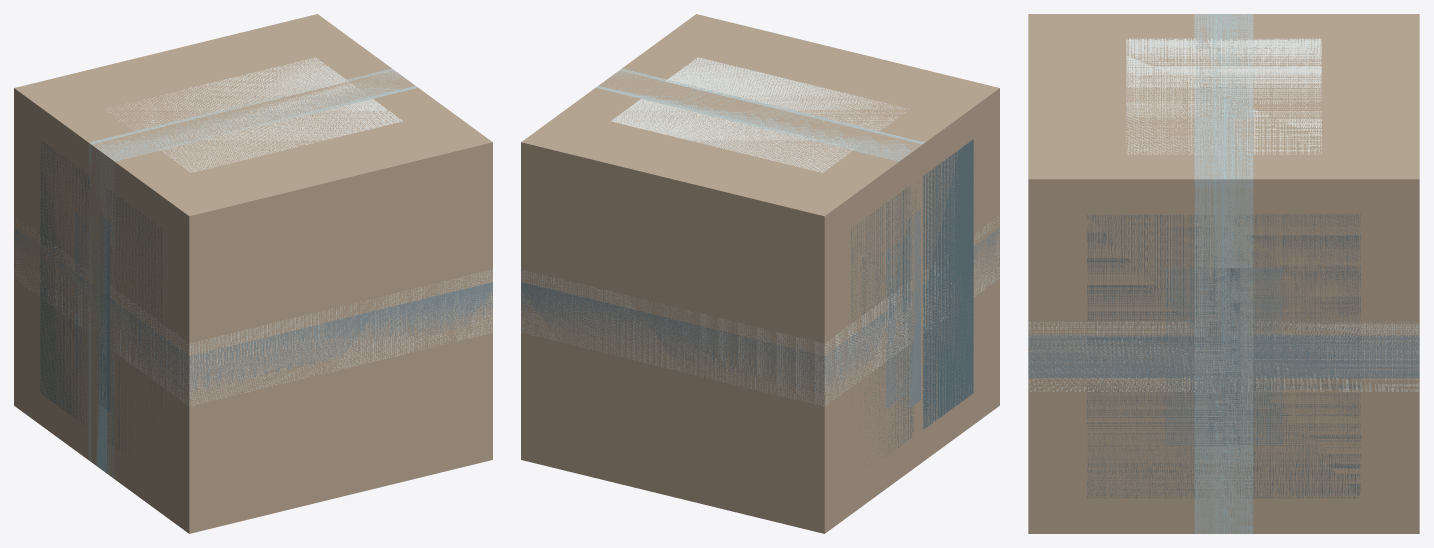
The model's file is world-kit.glb.
3 views of the same model, side by side, from view 1: azimuth 30°, elevation 25°; view 2: azimuth 150°, elevation 25°; view 3: azimuth 270°, elevation 25° (orthographic). The views are drawn at different scales.
Parts seen in each view (by area): view 1: crate, cabinet, roof, bed, generator, wall, door, platform, fence, barricade, window; view 2: crate, generator, cabinet, bed, roof, door, wall, platform, barricade, fence; view 3: crate, generator, wall, cabinet, roof, barricade, door, bed, window, fence, sign, shelf.
Boxes of the visible parts, bbox=[...] form: crate: bbox=[14, 14, 492, 533]; cabinet: bbox=[106, 57, 402, 172]; roof: bbox=[14, 228, 492, 392]; bed: bbox=[14, 220, 492, 406]; generator: bbox=[40, 139, 162, 470]; wall: bbox=[88, 68, 417, 478]; door: bbox=[91, 70, 415, 465]; platform: bbox=[14, 223, 492, 398]; fence: bbox=[93, 215, 110, 412]; barricade: bbox=[75, 212, 91, 377]; window: bbox=[96, 98, 307, 473]; crate: bbox=[521, 14, 999, 533]; generator: bbox=[851, 139, 973, 465]; cabinet: bbox=[611, 57, 909, 172]; bed: bbox=[521, 217, 999, 406]; roof: bbox=[521, 229, 999, 393]; door: bbox=[598, 71, 922, 470]; wall: bbox=[596, 68, 924, 161]; platform: bbox=[521, 223, 999, 398]; barricade: bbox=[886, 226, 923, 408]; fence: bbox=[904, 209, 920, 409]; crate: bbox=[1028, 14, 1419, 533]; generator: bbox=[1087, 214, 1360, 498]; wall: bbox=[1194, 14, 1253, 533]; cabinet: bbox=[1126, 38, 1321, 154]; roof: bbox=[1028, 335, 1419, 377]; barricade: bbox=[1165, 268, 1282, 445]; door: bbox=[1200, 14, 1247, 533]; bed: bbox=[1028, 321, 1419, 391]; window: bbox=[1212, 14, 1235, 533]; fence: bbox=[1204, 250, 1243, 462]; sign: bbox=[1208, 268, 1239, 444]; shelf: bbox=[1126, 335, 1321, 377].
Bounding box in the file's own units: 1 × 1 × 1.
